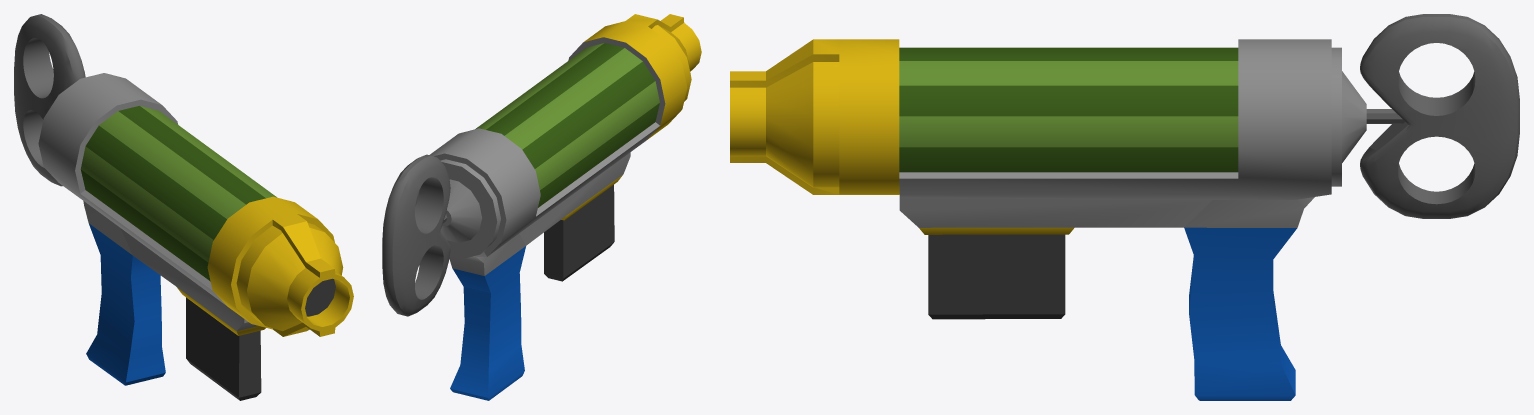
The model's file is InjGun.fbx.
3 renders of one model, left to right at view 1: azimuth 30°, elevation 25°; view 2: azimuth 150°, elevation 25°; view 3: azimuth 270°, elevation 25°, orthographic. The views are drawn at different scales.
Visible parts, largest first — view 1: Fluid, Stock_Cyl; view 2: Fluid, Stock_Cyl; view 3: Fluid, Stock_Cyl.
Boxes of the visible parts, left/top/right/bottom form: Fluid: left=38, top=73, right=353, bottom=400; Stock_Cyl: left=14, top=14, right=85, bottom=186; Fluid: left=415, top=14, right=701, bottom=400; Stock_Cyl: left=382, top=154, right=450, bottom=316; Fluid: left=730, top=39, right=1366, bottom=400; Stock_Cyl: left=1360, top=14, right=1519, bottom=218.
Size of the model in its own units: 8.45 by 21.89 by 41.95.
Materials: 1 (1 with a texture image).
